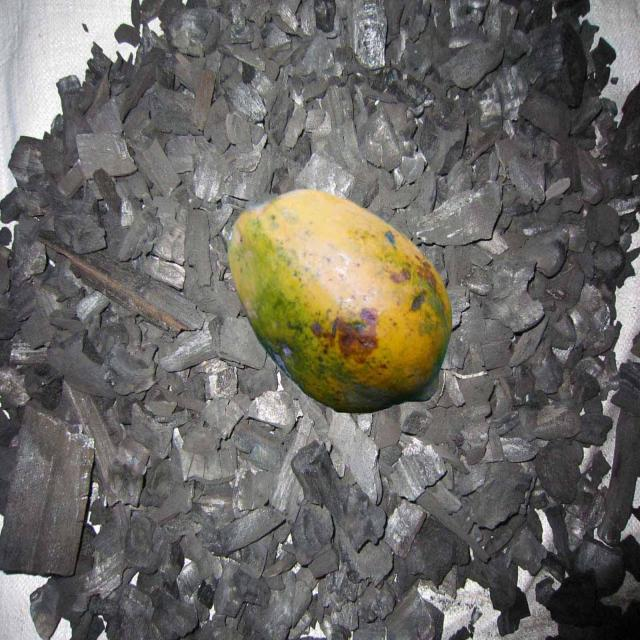Pepaya rippen: (225, 188, 450, 417)
